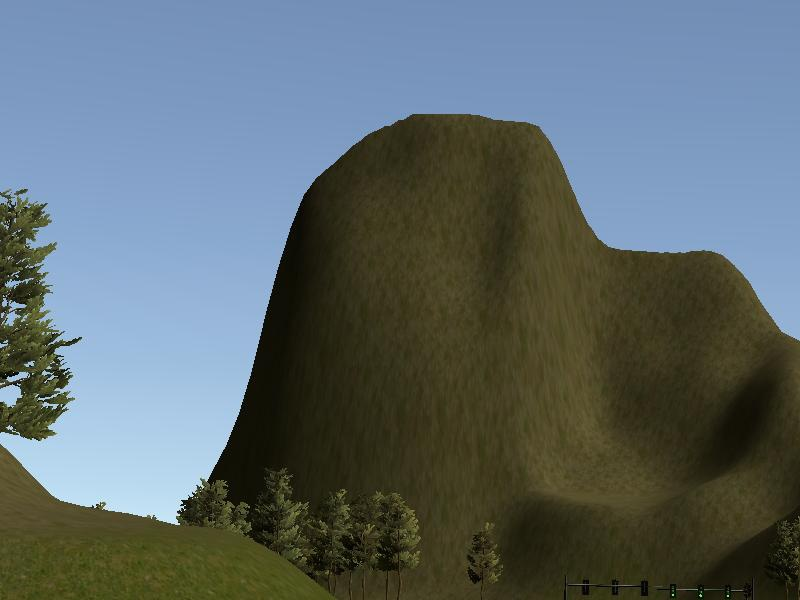Green: (668, 581, 678, 599), (723, 581, 732, 598), (696, 583, 705, 599)
